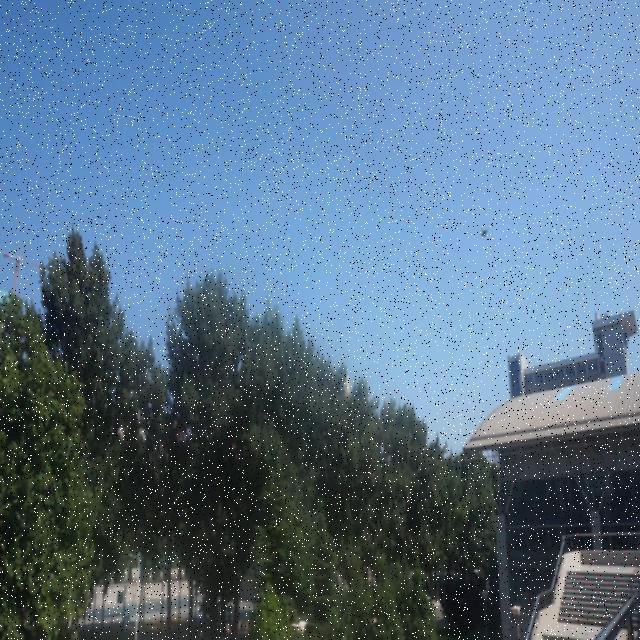UAV: (480, 229, 489, 237)
